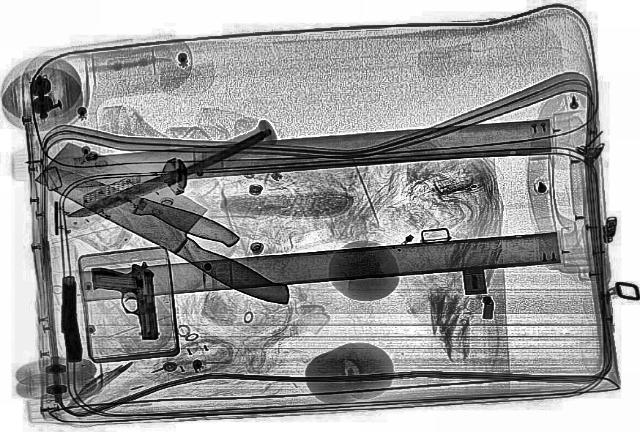Gun: (88, 262, 160, 342), (56, 276, 84, 362)
Knife: (13, 140, 330, 308), (30, 151, 246, 251), (63, 129, 277, 223)
